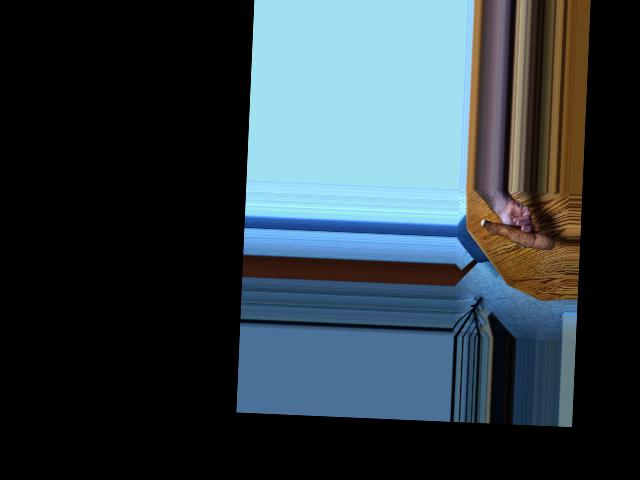sweet_potato: (481, 218, 552, 255)
